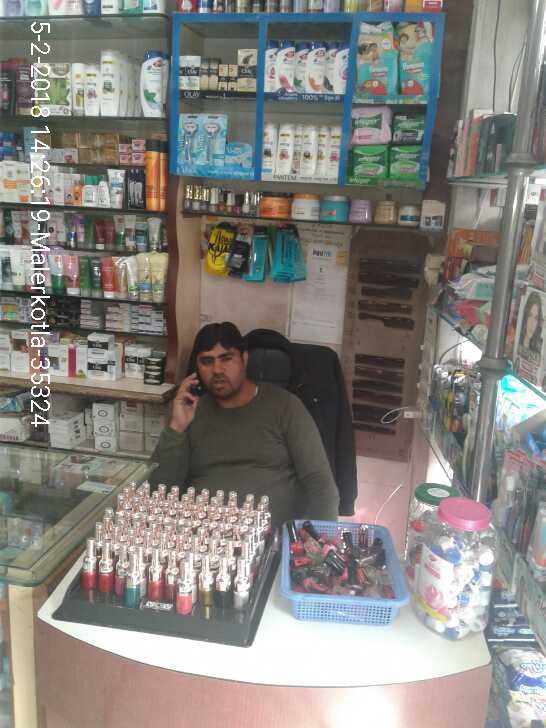venus: (201, 114, 227, 169), (178, 114, 201, 166), (228, 141, 251, 169)
